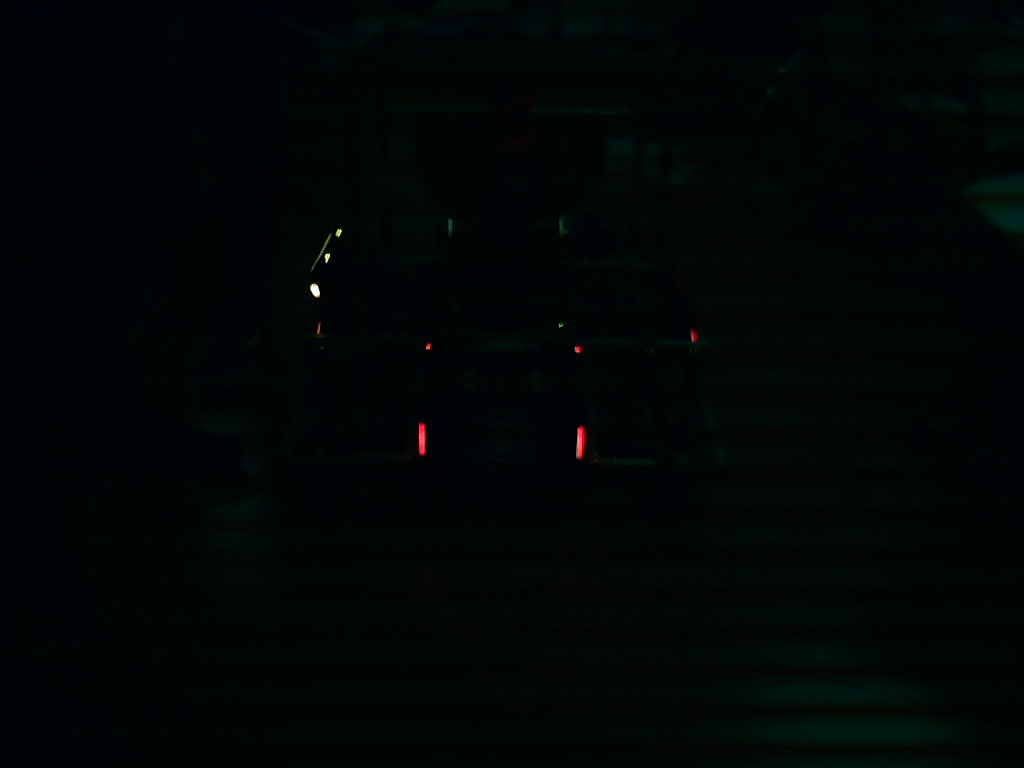lamp: (413, 417, 431, 460), (574, 422, 586, 463)
